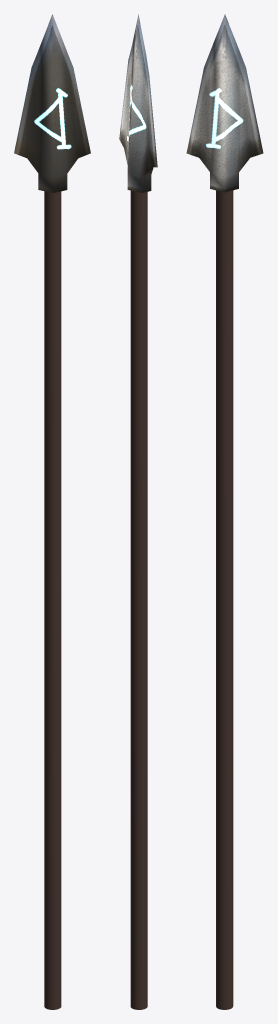
Rendered from Spear.fbx.
3 views of the same model, side by side, from view 1: azimuth 90°, elevation 25°; view 2: azimuth 210°, elevation 25°; view 3: azimuth 270°, elevation 25° (orthographic).
Visible parts, largest first — view 1: Cylinder, Cube; view 2: Cylinder, Cube; view 3: Cylinder, Cube.
Part boxes in pixels (bbox=[...]): Cylinder: bbox=[44, 191, 61, 1009]; Cube: bbox=[14, 14, 90, 192]; Cylinder: bbox=[130, 190, 147, 1009]; Cube: bbox=[119, 14, 157, 192]; Cylinder: bbox=[216, 190, 233, 1009]; Cube: bbox=[186, 14, 263, 192].
Bounding box in the file's own units: 45.45 × 1953 × 137.
